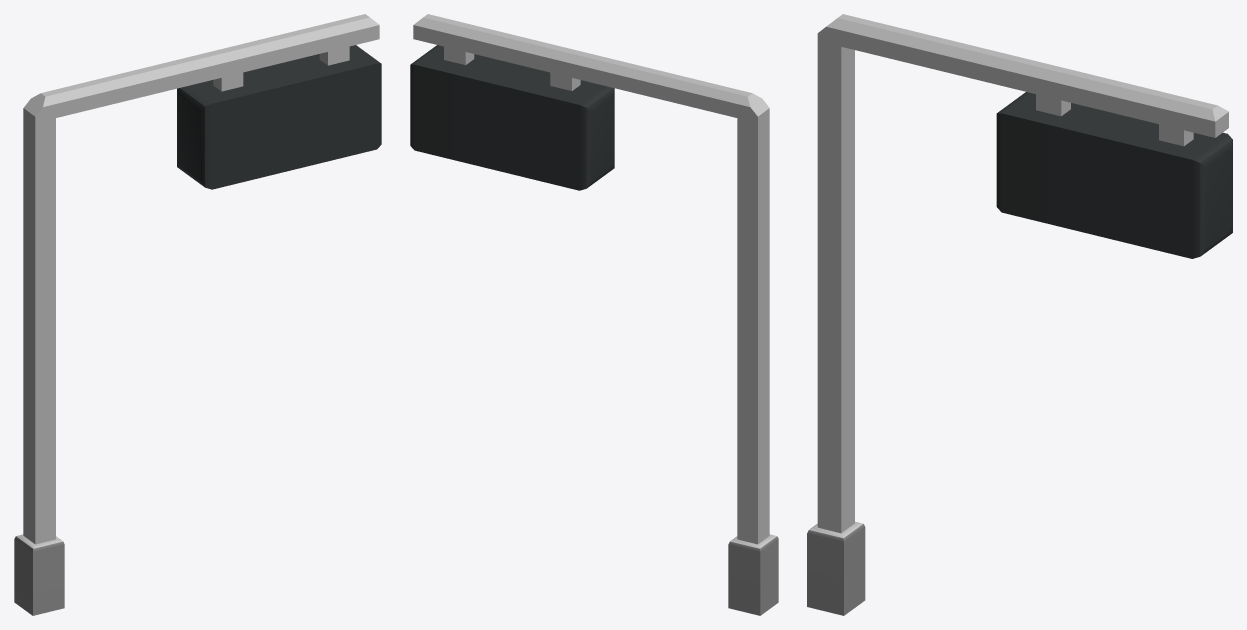
File: TrafficLight.fbx
The picture shows the model from 3 angles, left to right: view 1: azimuth 30°, elevation 25°; view 2: azimuth 150°, elevation 25°; view 3: azimuth 330°, elevation 25°; orthographic projection. The views are drawn at different scales.
Visible parts, largest first — view 1: traffic; view 2: traffic; view 3: traffic.
Part boxes in pixels (<box>): traffic: <box>14,14,381,615</box>; traffic: <box>410,14,778,615</box>; traffic: <box>807,14,1232,615</box>.
Bounding box in the file's own units: 2.57 × 3.57 × 0.3912.
